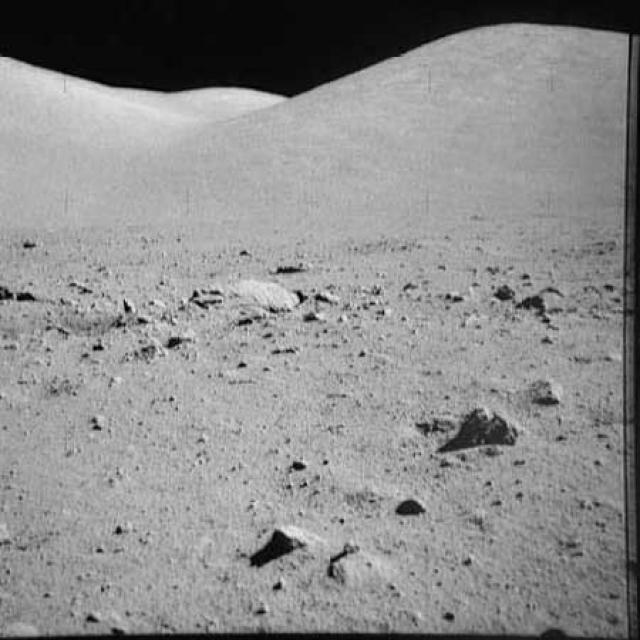crater: (8, 298, 152, 346)
rock: (441, 392, 526, 460), (192, 274, 297, 325), (322, 542, 388, 589), (266, 514, 319, 566), (530, 376, 568, 411)
